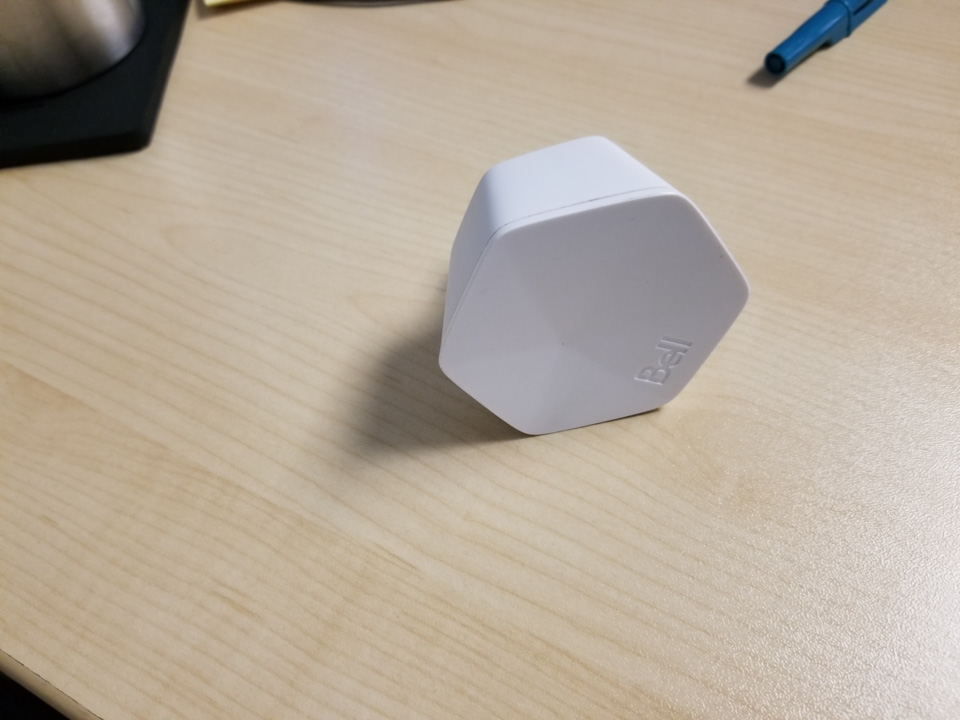pod: (428, 132, 755, 442)
